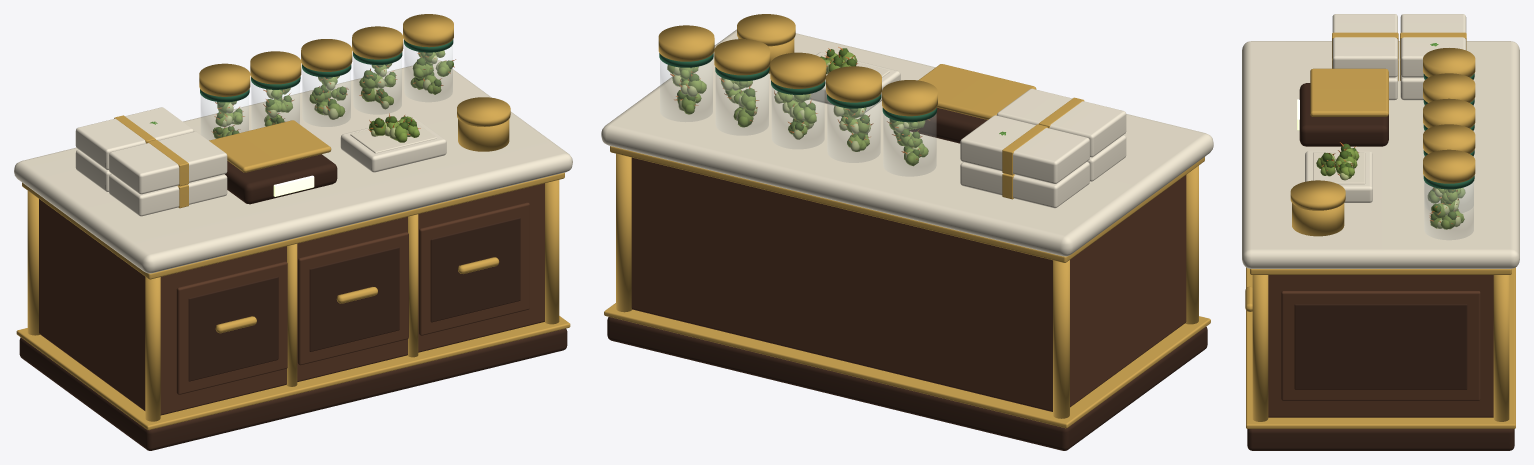
The model's file is pack_bench.glb.
3 views of the same model, side by side, from view 1: azimuth 30°, elevation 25°; view 2: azimuth 150°, elevation 25°; view 3: azimuth 270°, elevation 25° (orthographic). The views are drawn at different scales.
Visible parts, largest first — view 1: Top, Body, Plinth, DrawerInset1, DrawerInset2, DrawerInset0, PlinthBrass, Drawer1, Drawer0, Drawer2, Box3, ScalePan (+24 smaller); view 2: Body, Top, Plinth, PlinthBrass, Box1, Box3, TopBand, ScalePan, Box0, Jar0, Jar1, Jar3 (+15 smaller); view 3: Top, EndInset, Body, EndPanel, Plinth, PlinthBrass, ScalePan, Box3, ScaleBase, Box1, Jar4, Column1-1 (+16 smaller).
Boxes of the visible parts, left/top/right/bottom form: Top: left=14, top=60, right=572, bottom=273; Body: left=39, top=183, right=544, bottom=415; Plinth: left=19, top=328, right=567, bottom=450; DrawerInset1: left=309, top=247, right=399, bottom=351; DrawerInset2: left=430, top=217, right=520, bottom=322; DrawerInset0: left=188, top=276, right=278, bottom=381; PlinthBrass: left=16, top=316, right=570, bottom=430; Drawer1: left=297, top=232, right=408, bottom=365; Drawer0: left=176, top=261, right=287, bottom=394; Drawer2: left=419, top=202, right=529, bottom=335; Box3: left=109, top=131, right=227, bottom=194; ScalePan: left=209, top=120, right=331, bottom=172; Body: left=631, top=157, right=1186, bottom=411; Top: left=601, top=29, right=1213, bottom=256; Plinth: left=607, top=317, right=1207, bottom=450; PlinthBrass: left=604, top=303, right=1210, bottom=428; Box1: left=960, top=115, right=1089, bottom=183; Box3: left=996, top=88, right=1126, bottom=157; TopBand: left=610, top=146, right=1204, bottom=262; ScalePan: left=918, top=64, right=1036, bottom=119; Box0: left=960, top=162, right=1089, bottom=208; Jar0: left=883, top=114, right=936, bottom=176; Jar1: left=827, top=101, right=880, bottom=162; Jar3: left=716, top=73, right=768, bottom=135; Top: left=1242, top=41, right=1519, bottom=268; EndInset: left=1294, top=304, right=1467, bottom=389; Body: left=1268, top=275, right=1493, bottom=417; EndPanel: left=1281, top=291, right=1480, bottom=400; Plinth: left=1247, top=429, right=1514, bottom=450; PlinthBrass: left=1246, top=267, right=1515, bottom=428; ScalePan: left=1310, top=68, right=1388, bottom=116; Box3: left=1332, top=14, right=1397, bottom=77; ScaleBase: left=1299, top=83, right=1388, bottom=146; Box1: left=1400, top=14, right=1466, bottom=77; Jar4: left=1424, top=182, right=1473, bottom=239; Column1-1: left=1252, top=275, right=1268, bottom=421.
Size of the model in its own units: 1.94 by 1.14 by 1.06.
